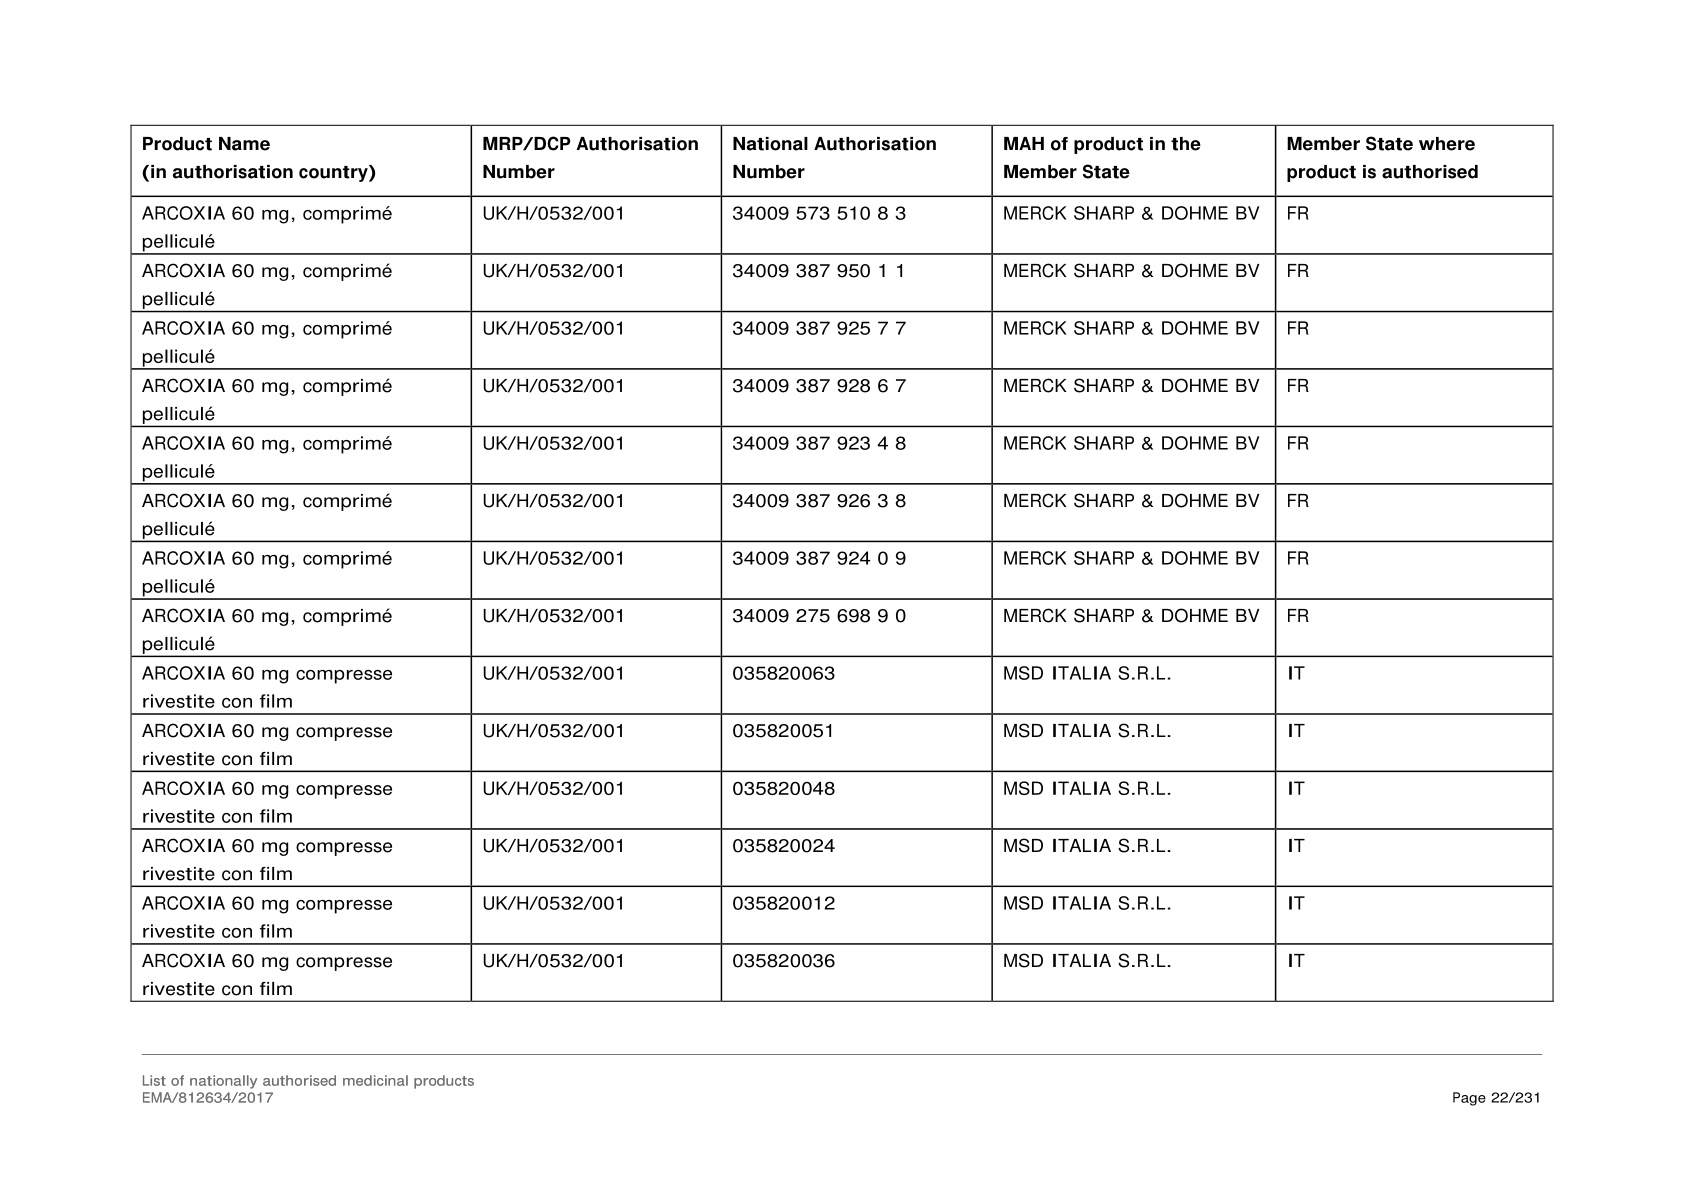full_lined: (129, 122, 1554, 1003)
